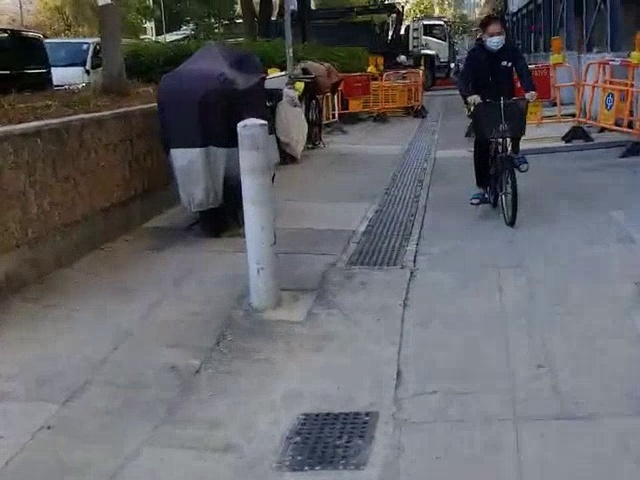Person: (459, 17, 539, 227)
